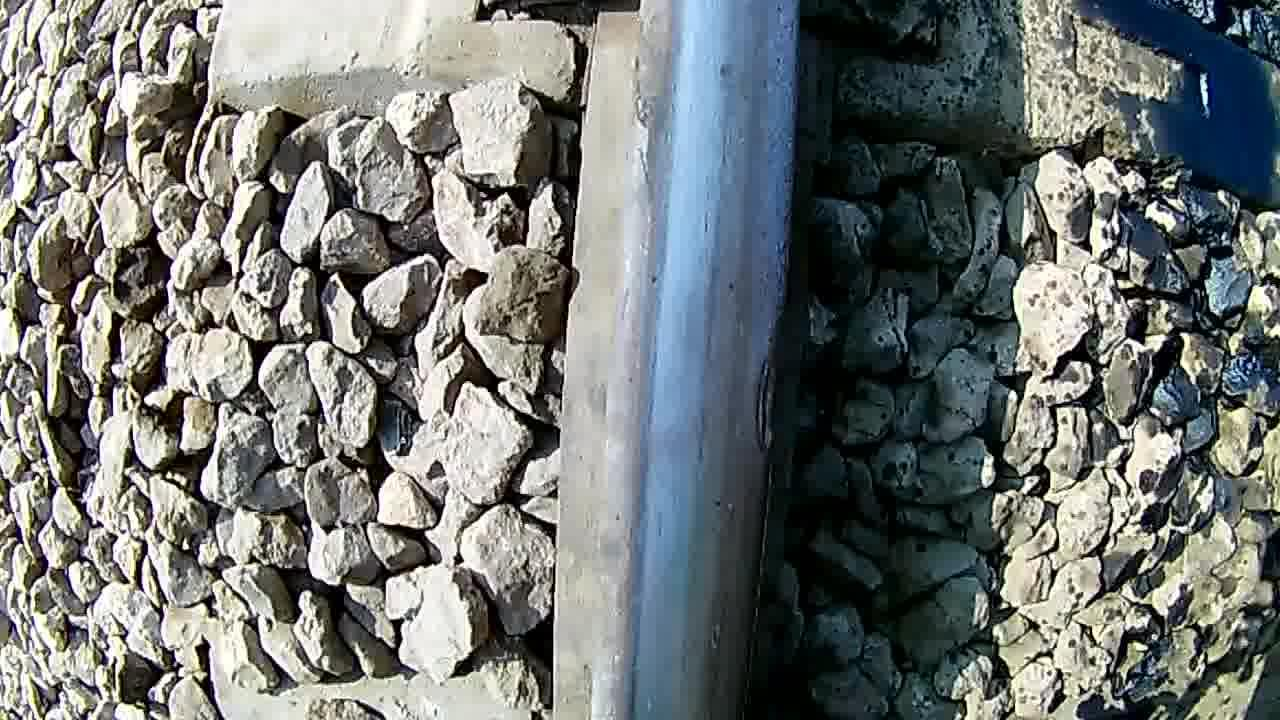crack: (713, 328, 794, 479)
